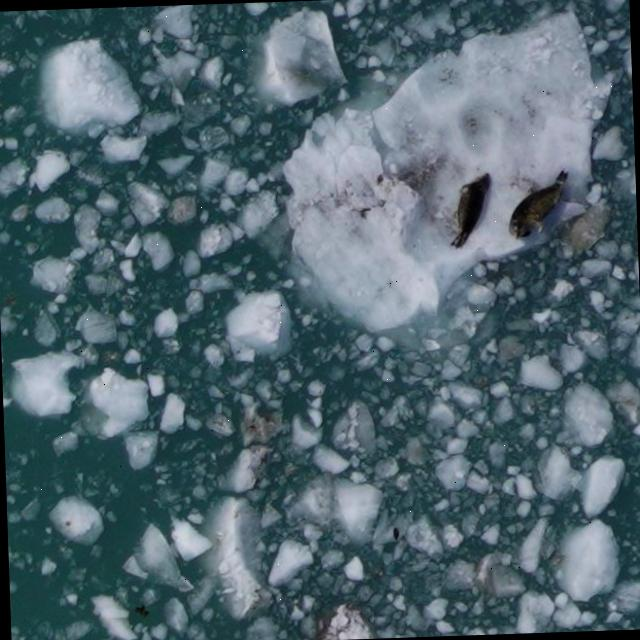seal: (500, 156, 574, 248), (438, 164, 494, 252)
